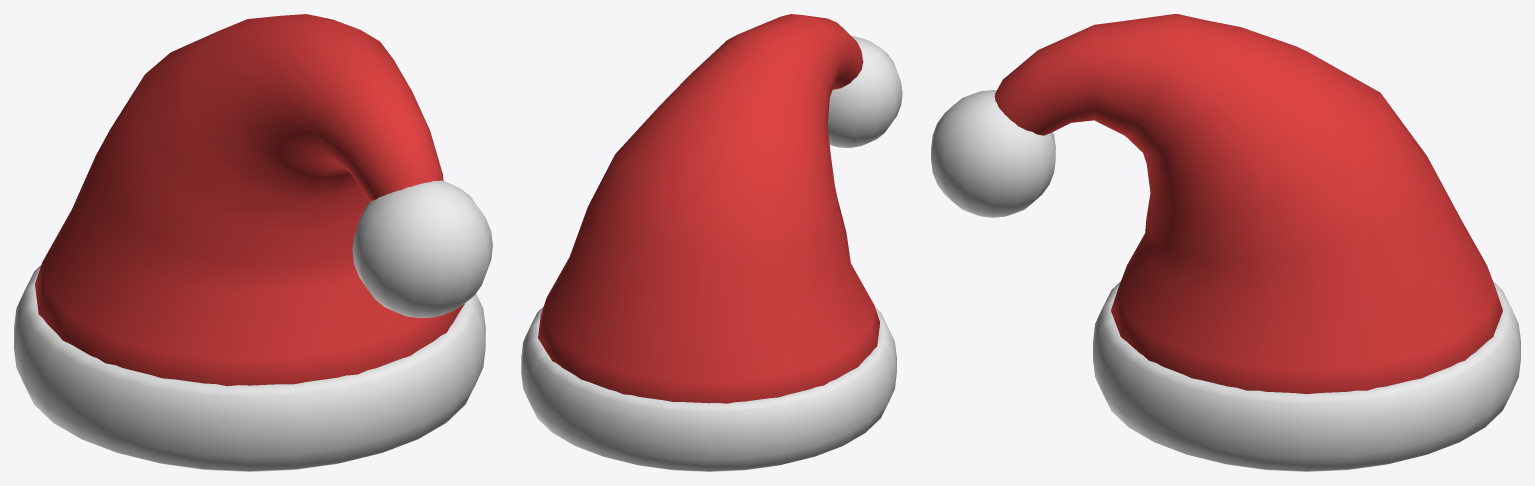
Rendered from ChristmasHat.fbx.
3 renders of one model, left to right at view 1: azimuth 30°, elevation 25°; view 2: azimuth 150°, elevation 25°; view 3: azimuth 270°, elevation 25°, orthographic. The views are drawn at different scales.
Parts seen in each view (by area): view 1: ChristmasHat4, ChristmasHat3, ChristmasHat5; view 2: ChristmasHat4, ChristmasHat3, ChristmasHat5; view 3: ChristmasHat4, ChristmasHat3, ChristmasHat5.
Part boxes in pixels (box(x1,y1,x2,y2)): ChristmasHat4: box(35, 14, 464, 386); ChristmasHat3: box(14, 265, 485, 471); ChristmasHat5: box(352, 180, 492, 317); ChristmasHat4: box(538, 14, 879, 403); ChristmasHat3: box(521, 307, 896, 471); ChristmasHat5: box(827, 36, 902, 147); ChristmasHat4: box(994, 14, 1502, 393); ChristmasHat3: box(1093, 281, 1520, 471); ChristmasHat5: box(931, 90, 1055, 217).
Size of the model in its own units: 6.73 by 6.4 by 9.23.
